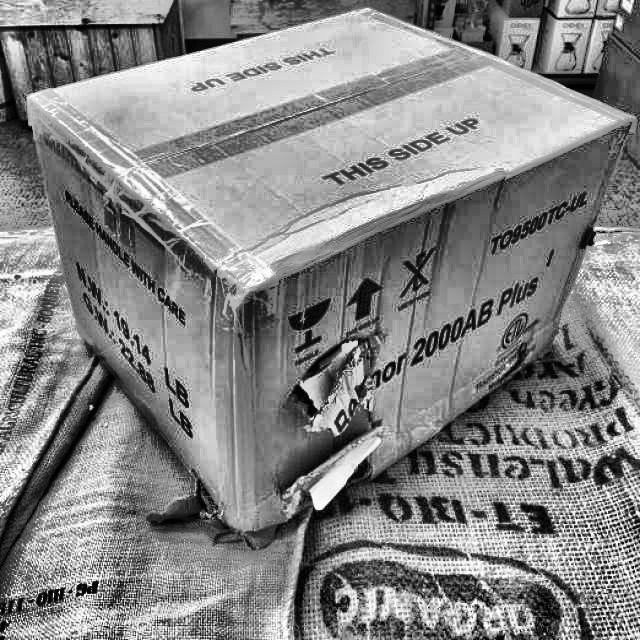box: (25, 4, 639, 542)
hole: (262, 336, 380, 428), (187, 472, 231, 524)
